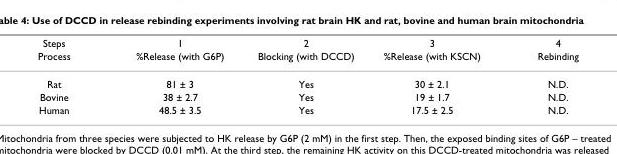table: (36, 36, 577, 115)
table column: (368, 36, 508, 115), (102, 36, 240, 115), (240, 36, 368, 115), (508, 36, 577, 115), (36, 36, 102, 115)
table column header: (36, 36, 577, 69)
table row: (36, 48, 577, 69), (36, 69, 577, 89), (36, 89, 577, 102), (36, 102, 577, 115), (36, 36, 577, 48)
table spanning cell: (368, 36, 508, 69), (102, 36, 240, 69), (240, 36, 368, 69), (508, 36, 577, 69), (36, 36, 102, 69)
